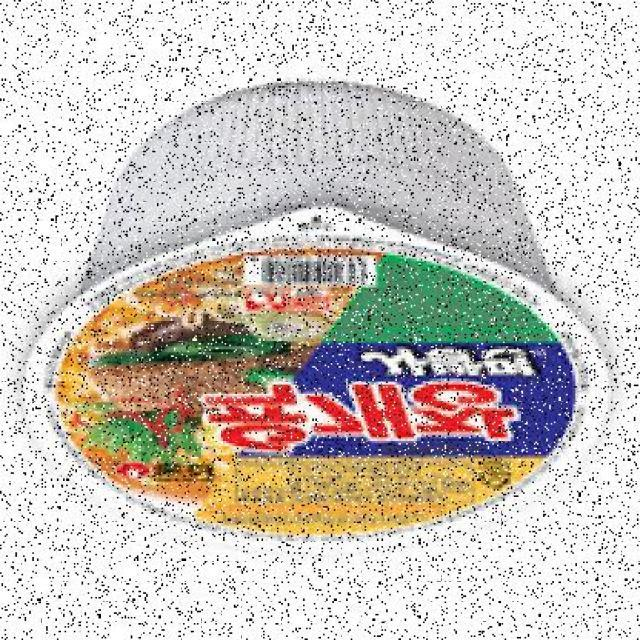Miscellaneous: (17, 83, 614, 554)
